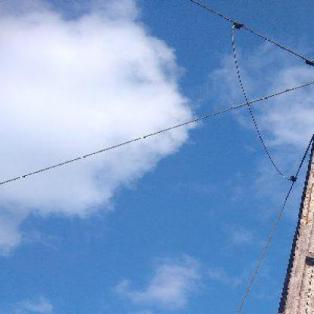Poste: (232, 58, 313, 314)
